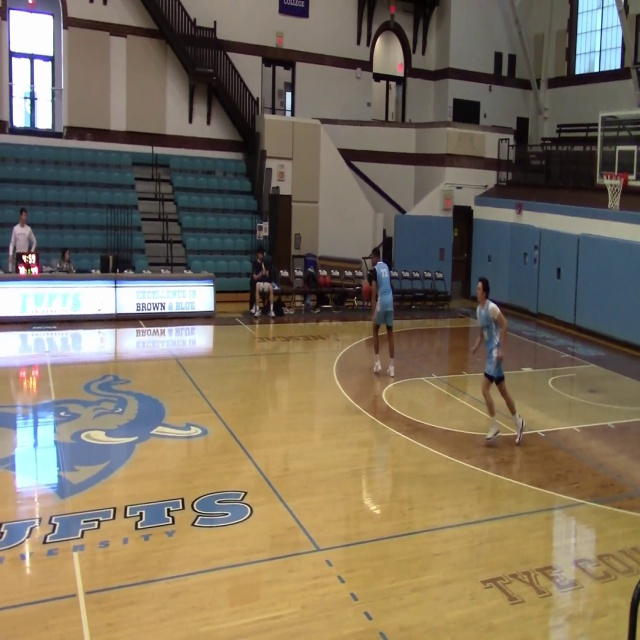Basketball: (361, 281, 371, 302), (318, 271, 330, 287)
